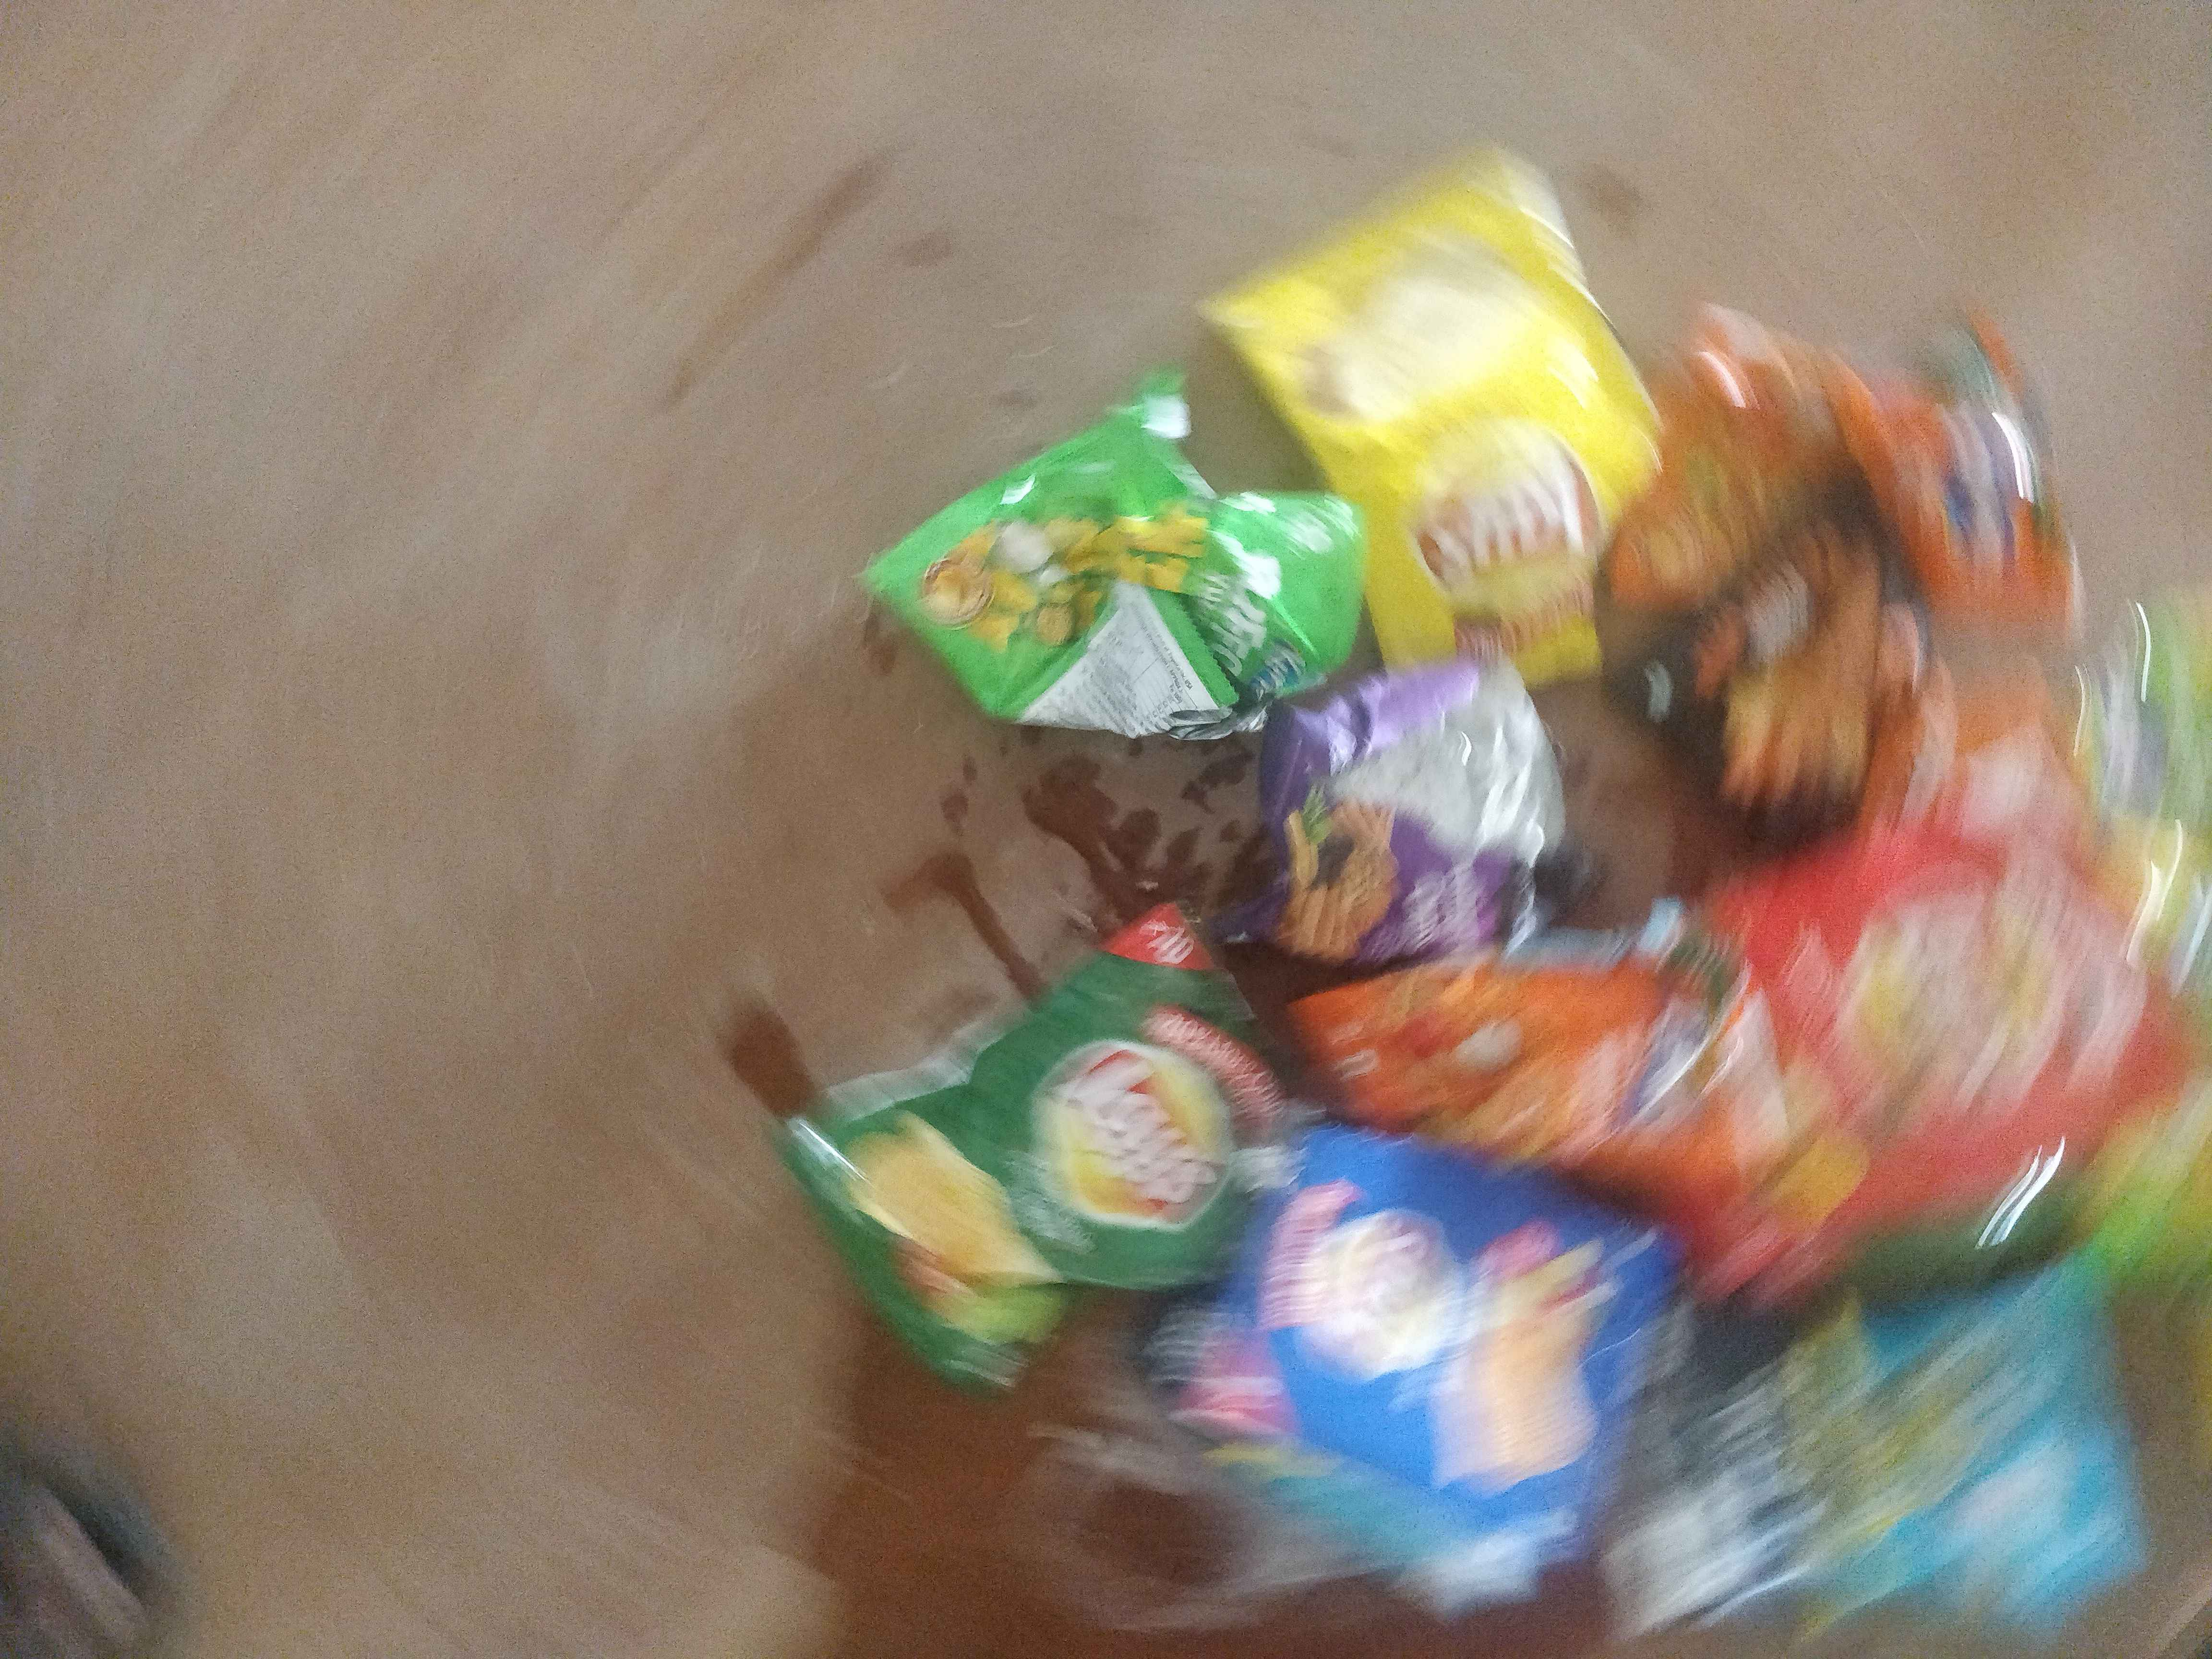Lays: (1285, 1199, 1494, 1392), (1409, 418, 1590, 615), (1068, 1019, 1217, 1255)
kurkure: (1918, 383, 2027, 586), (1242, 634, 1310, 721)
